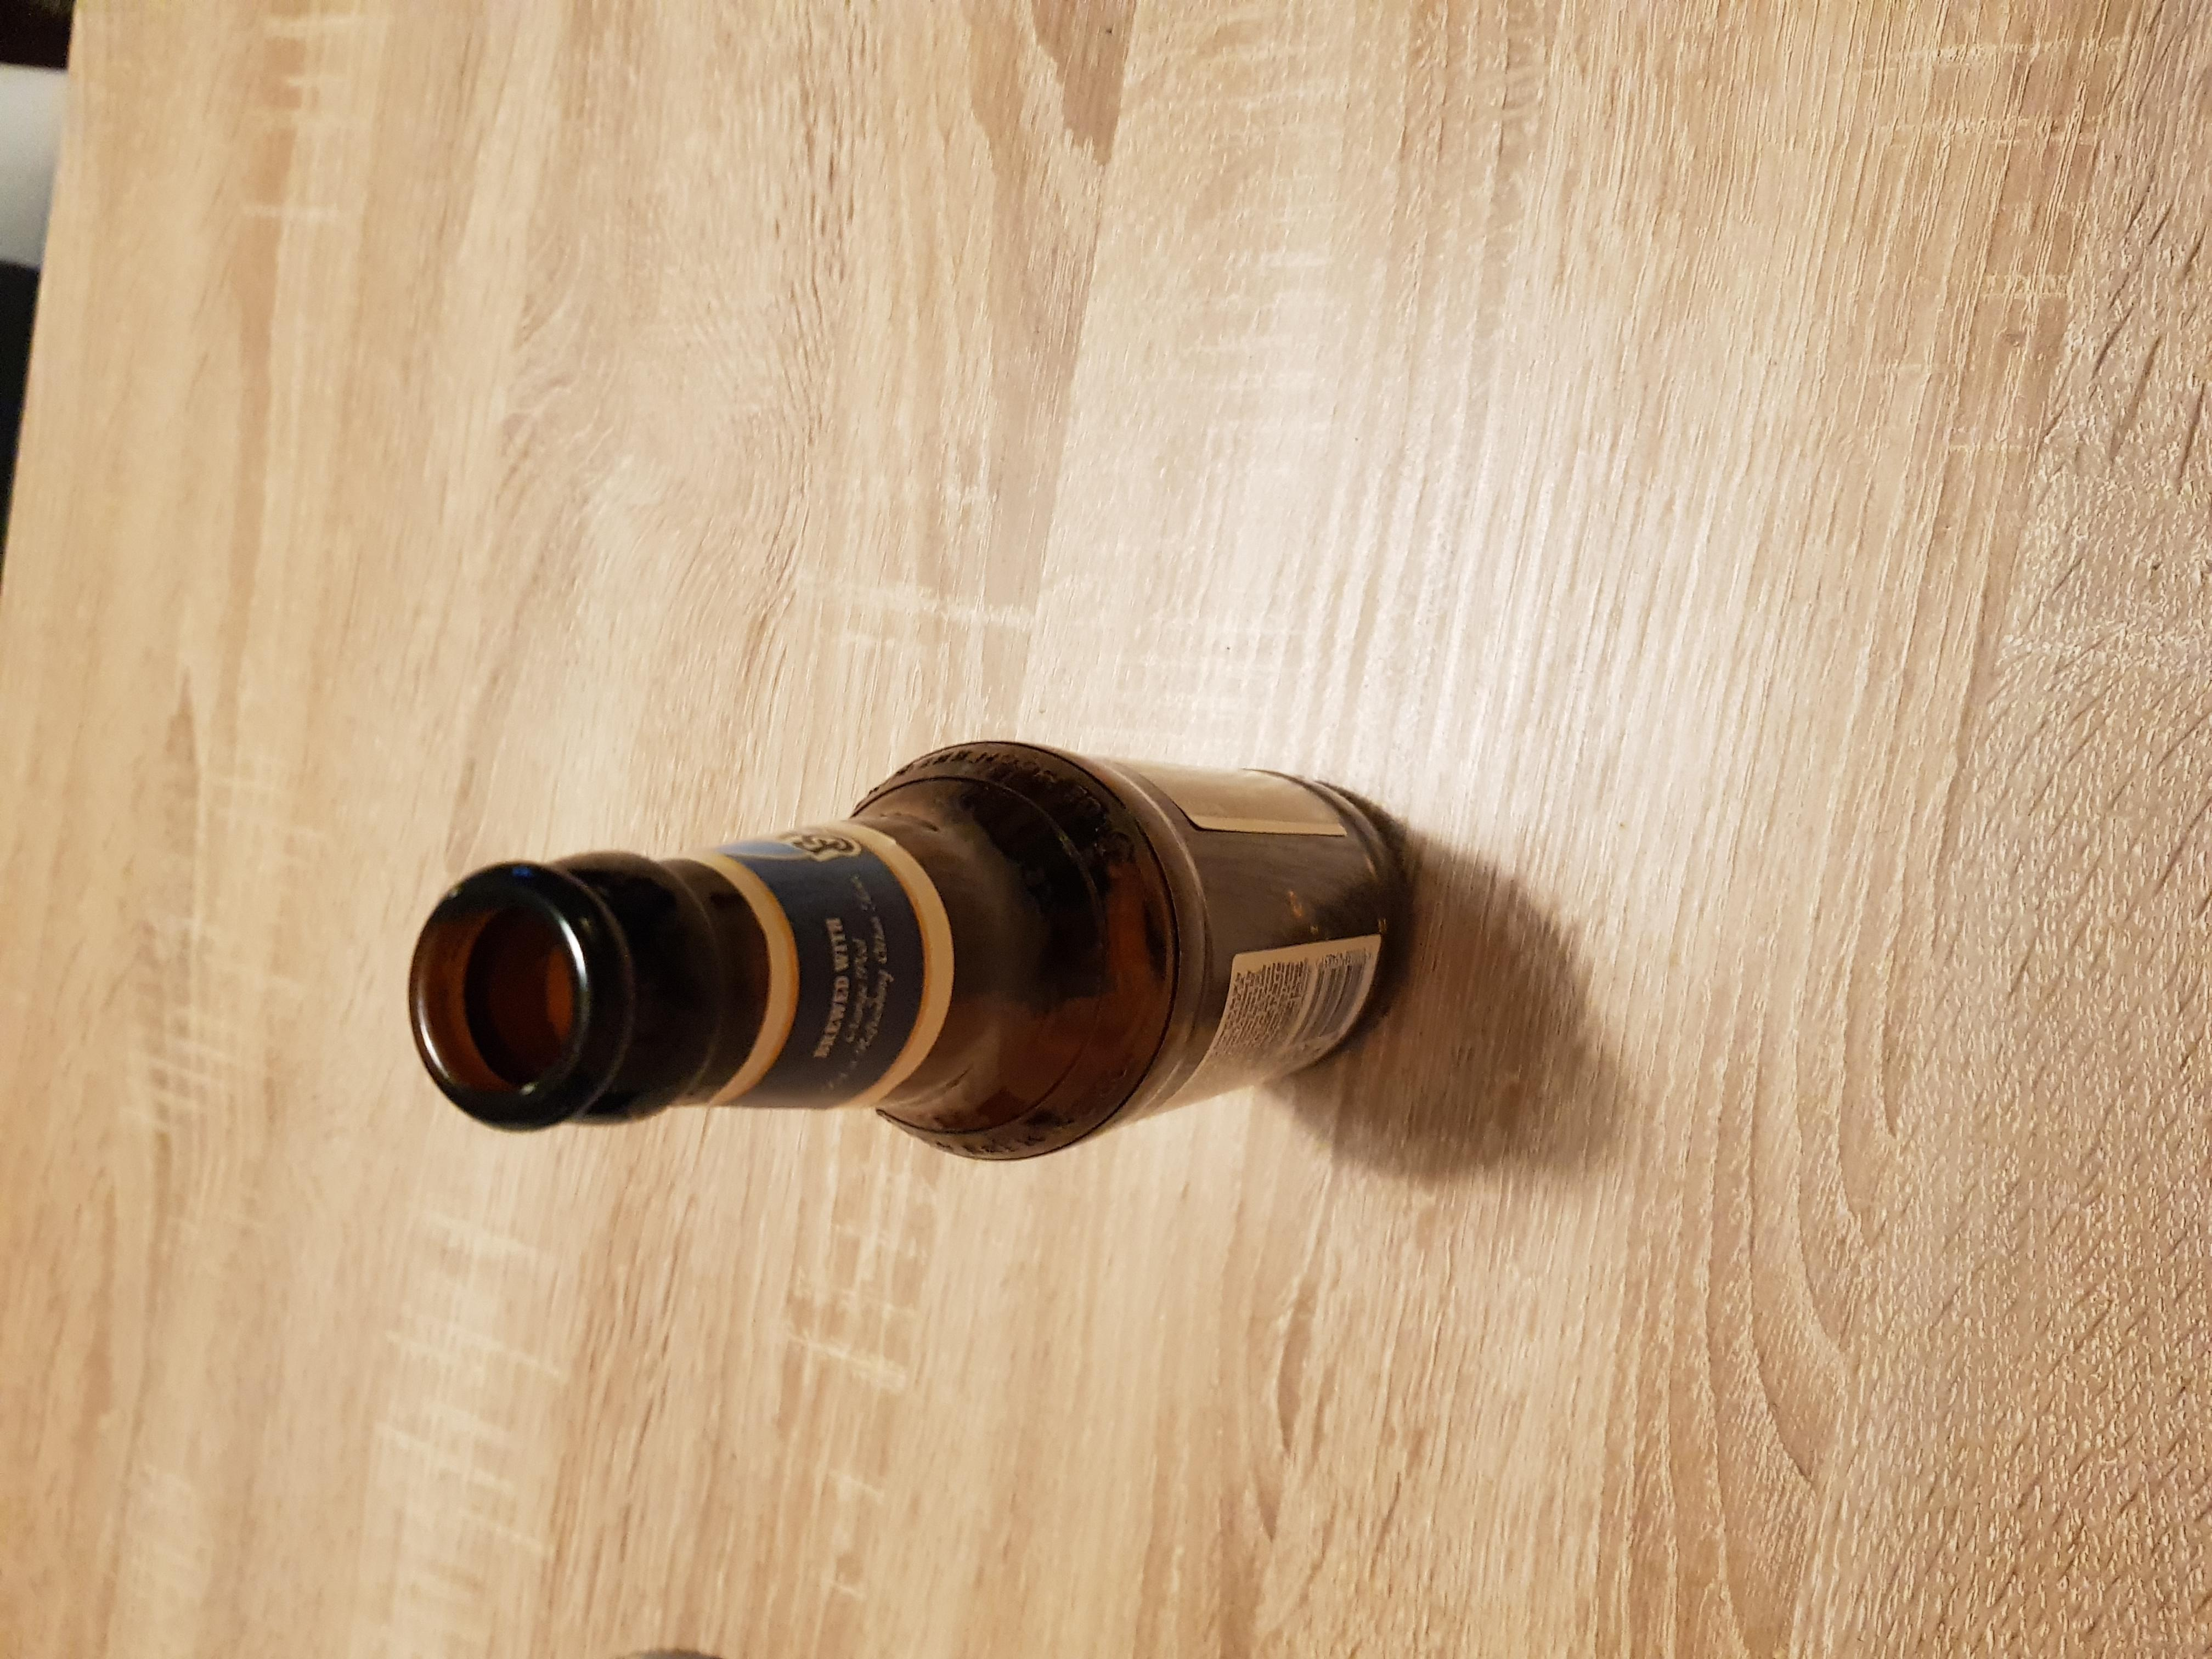bottle: (409, 742, 1425, 1169)
